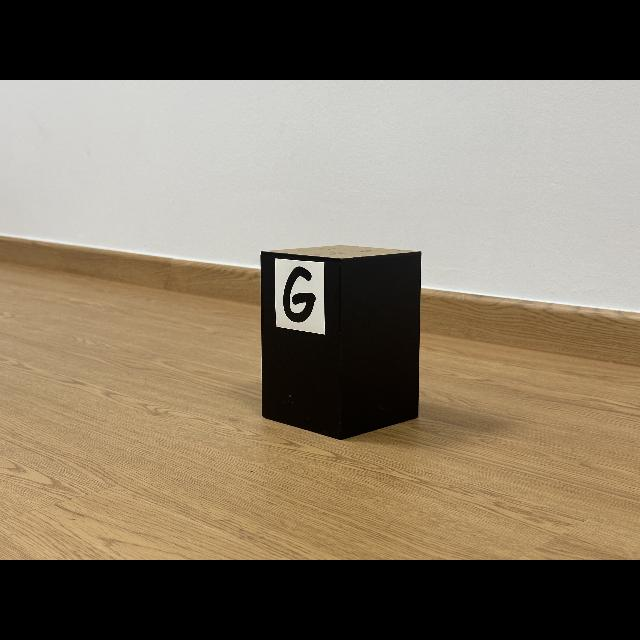G: (284, 266, 316, 322)
